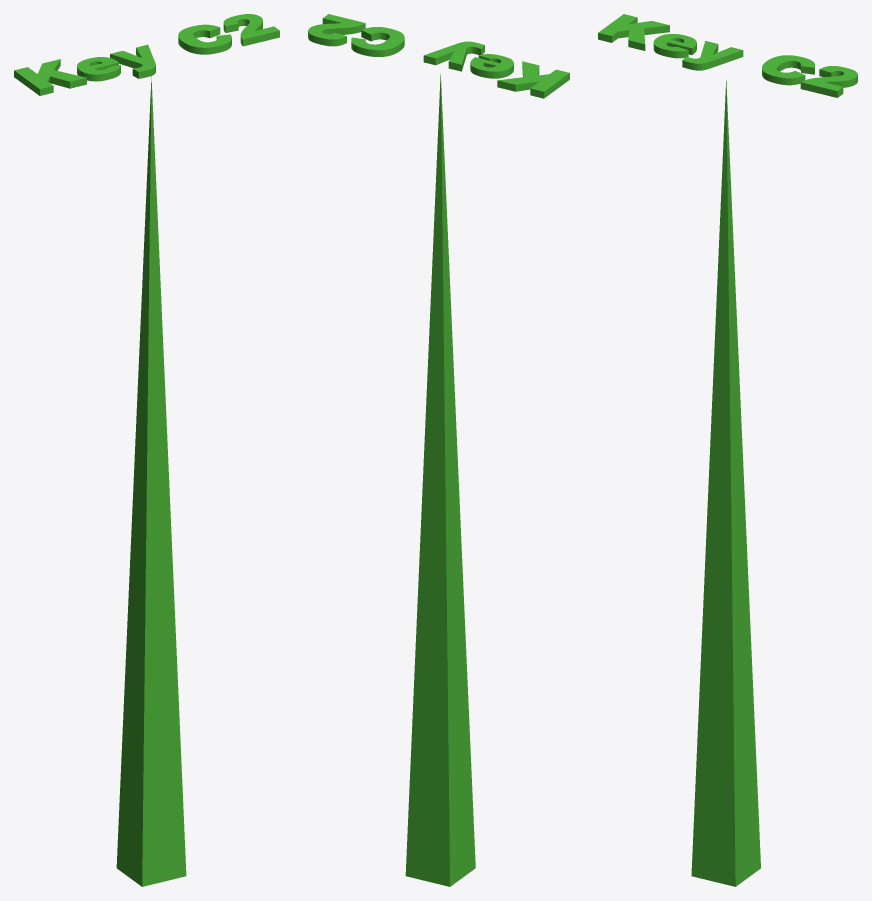
Rendered from Tag_Key_C2.FBX.
3 views of the same model, side by side, from view 1: azimuth 30°, elevation 25°; view 2: azimuth 150°, elevation 25°; view 3: azimuth 330°, elevation 25° (orthographic).
Visible parts, largest first — view 1: Tag_Nail_Key005, Tag_Text_Key_005; view 2: Tag_Nail_Key005, Tag_Text_Key_005; view 3: Tag_Nail_Key005, Tag_Text_Key_005.
Boxes of the visible parts, x1,y1,x2,y2 form: Tag_Nail_Key005: (116, 76, 186, 886); Tag_Text_Key_005: (14, 14, 279, 95); Tag_Nail_Key005: (405, 73, 475, 886); Tag_Text_Key_005: (308, 14, 569, 98); Tag_Nail_Key005: (691, 80, 760, 886); Tag_Text_Key_005: (598, 14, 857, 97).
Bounding box in the file's own units: 597 × 1944 × 145.
